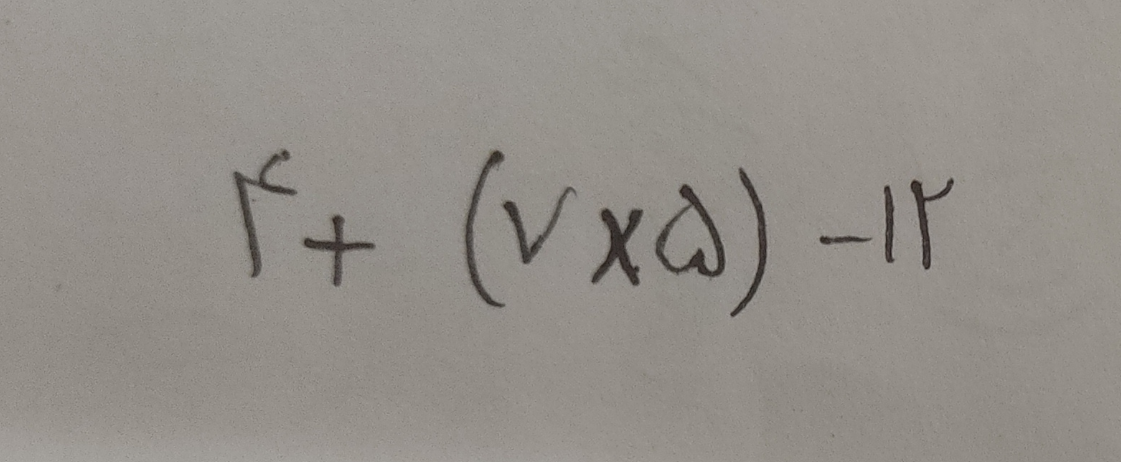character: (231, 149, 310, 287), (460, 150, 513, 331), (655, 182, 734, 286), (727, 164, 774, 335), (507, 184, 589, 275), (302, 213, 386, 299), (588, 204, 650, 304), (908, 176, 965, 279), (881, 183, 913, 274), (820, 234, 885, 269)
